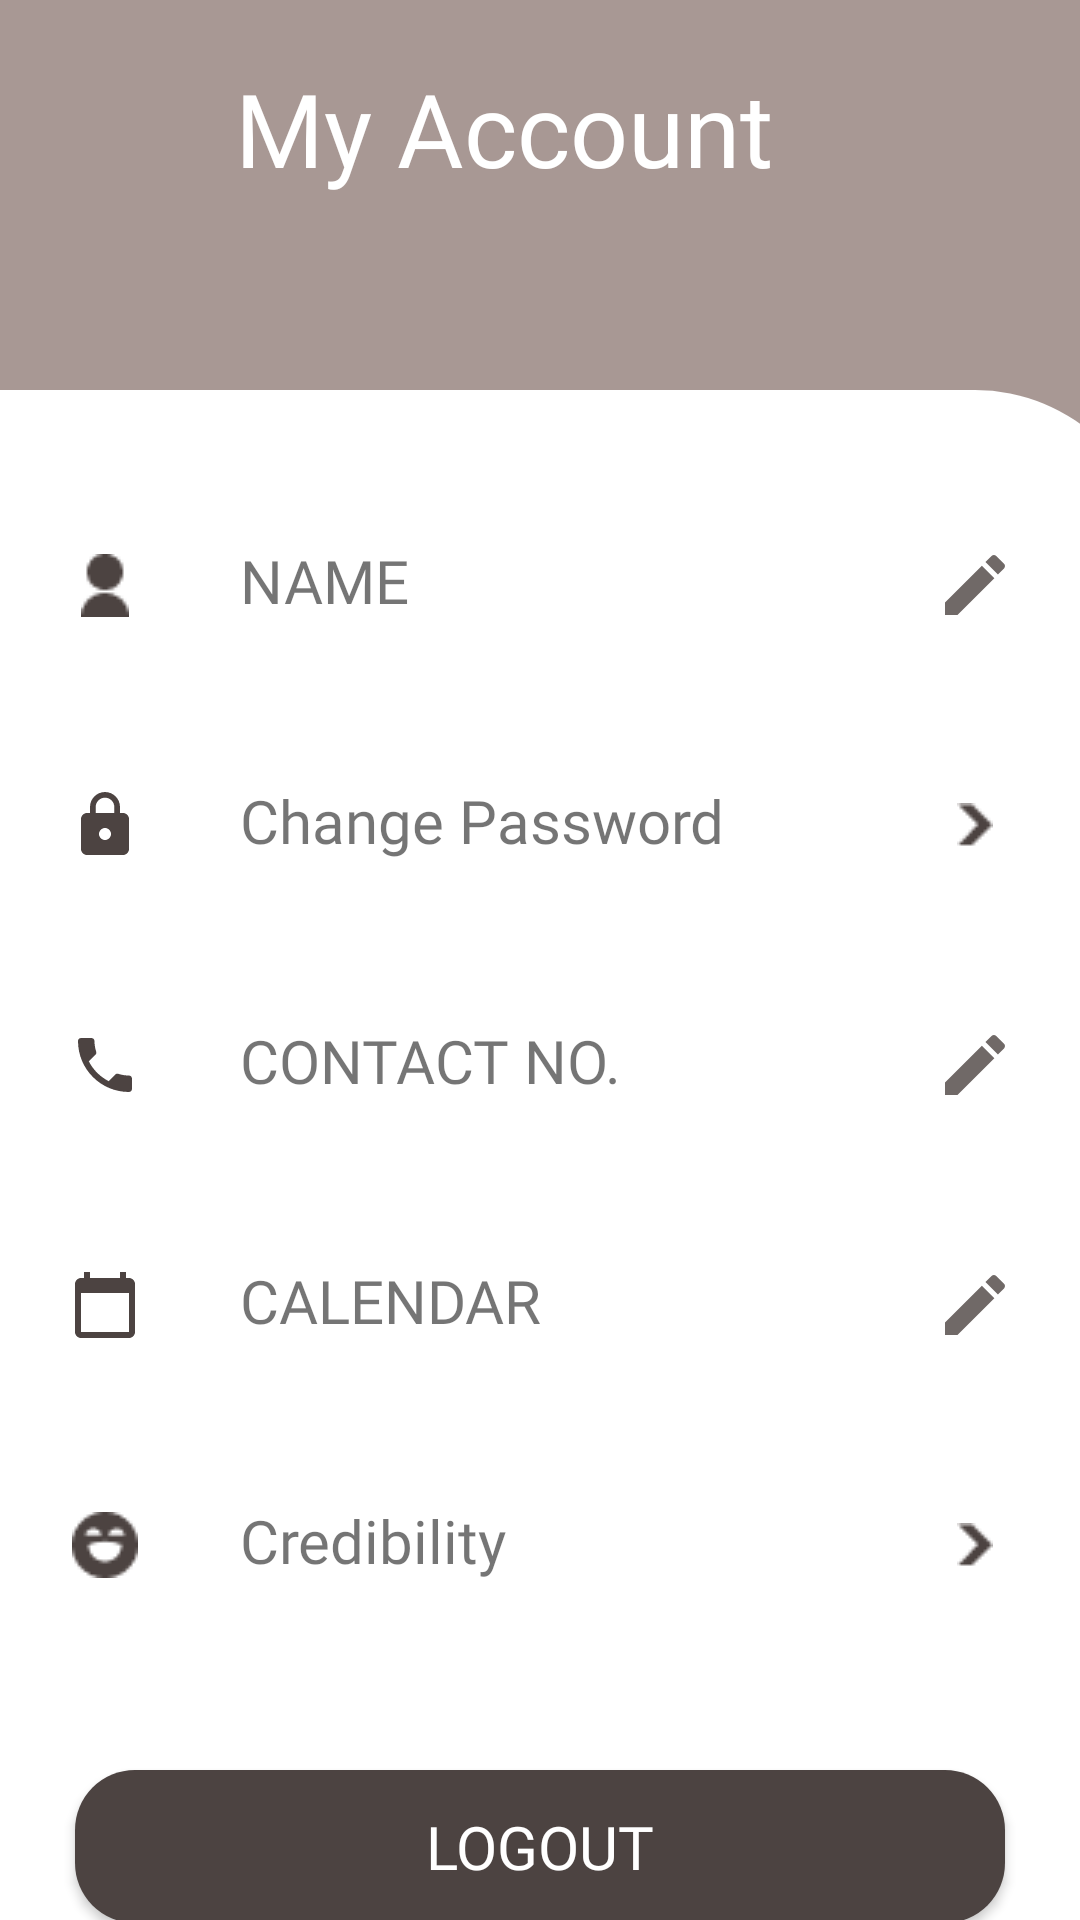

Icon bounding boxes for this 1080px x 1920px phone screenshot, format bbox=(x1, y1, x2, y2):
edit: bbox=(945, 555, 1005, 615), bbox=(945, 1035, 1005, 1095), bbox=(945, 1275, 1005, 1335)
lock: bbox=(81, 792, 129, 855)
next: bbox=(957, 803, 993, 846), bbox=(957, 1523, 993, 1566)
phone: bbox=(78, 1038, 132, 1092)
